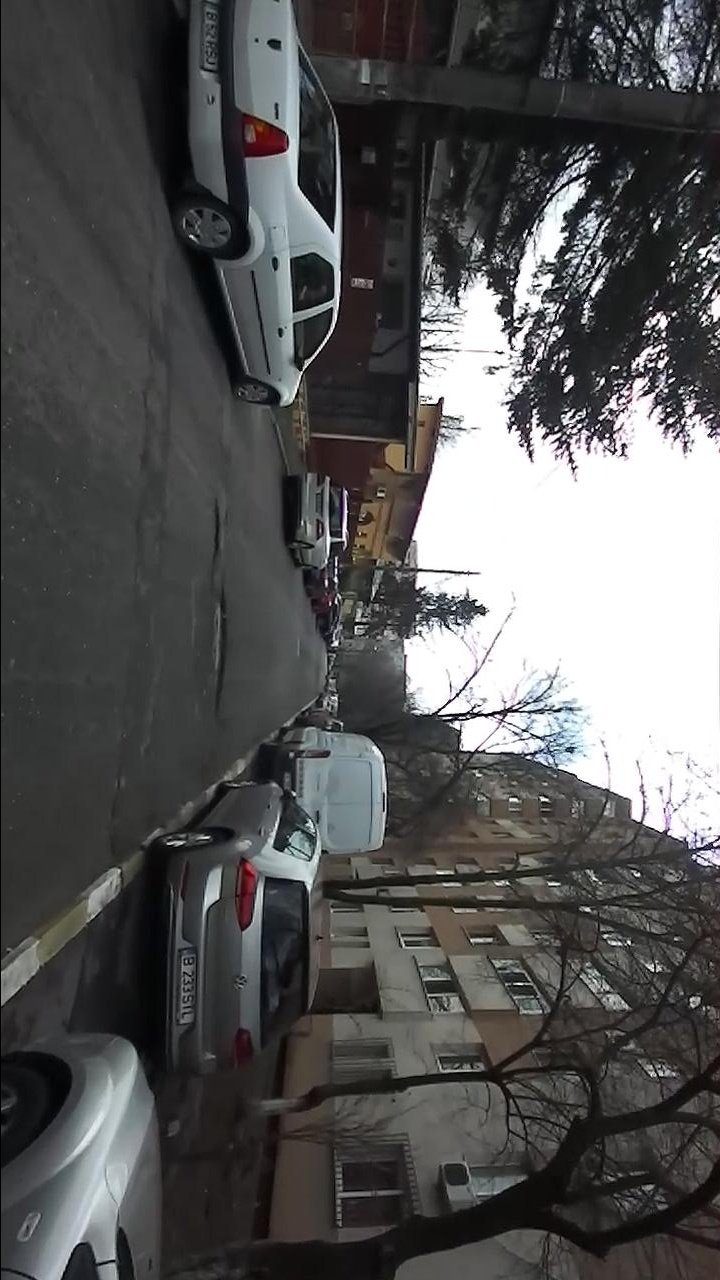pothole: (207, 582, 230, 718), (105, 768, 129, 852), (210, 496, 224, 565)
